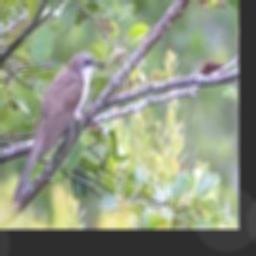Cuckoo: (11, 52, 103, 204)
